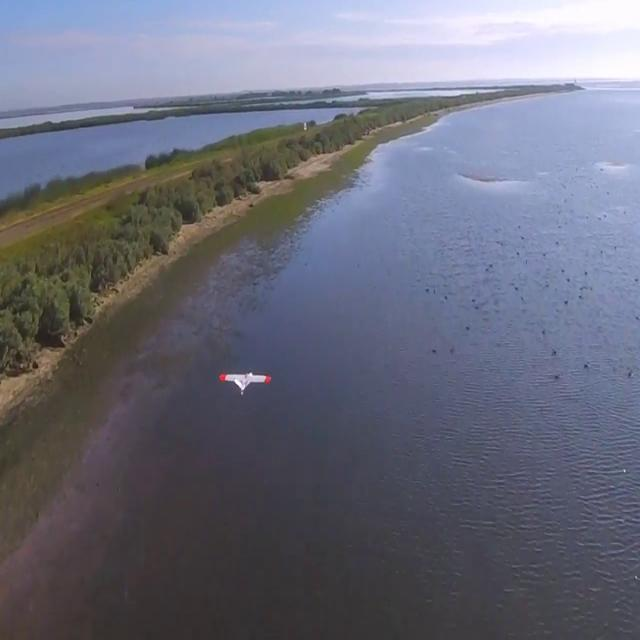iha: (218, 370, 272, 399)
